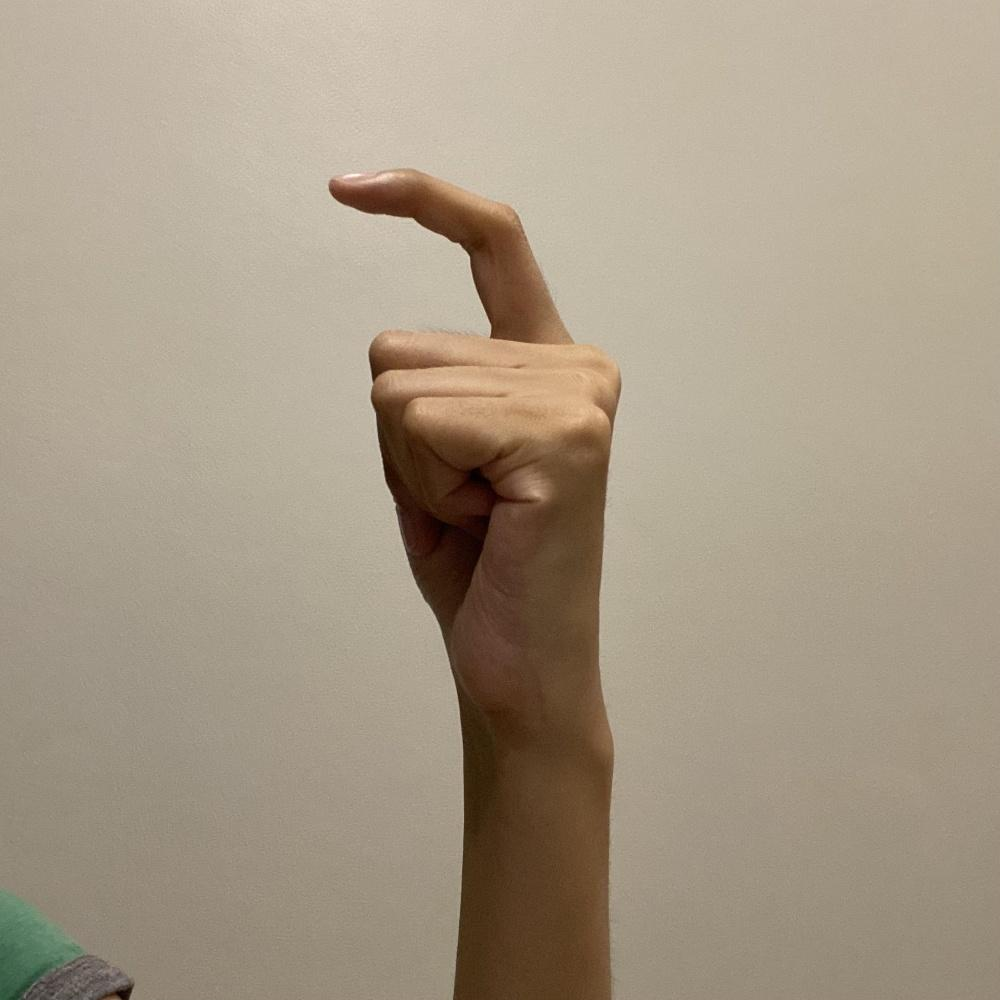x: (321, 157, 629, 777)
